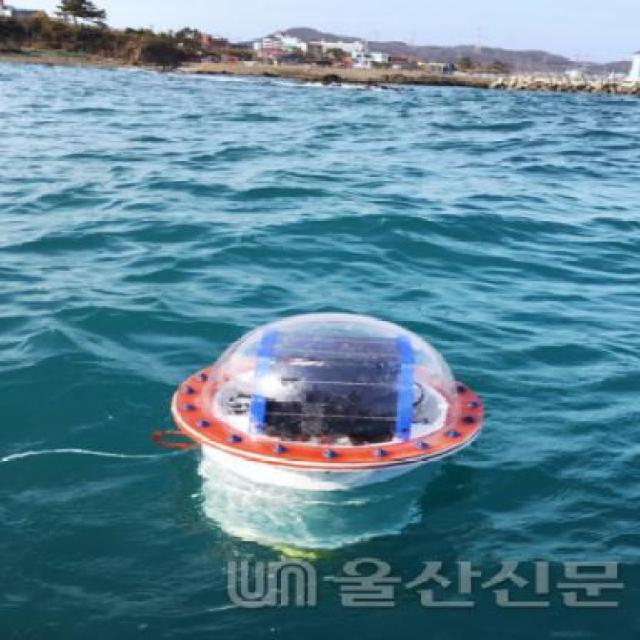buoy: (146, 293, 480, 554)
